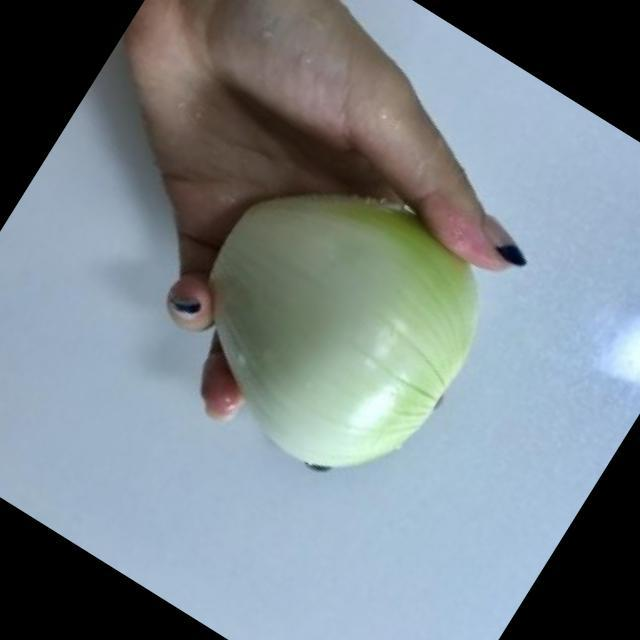Onion: (214, 197, 480, 471)
